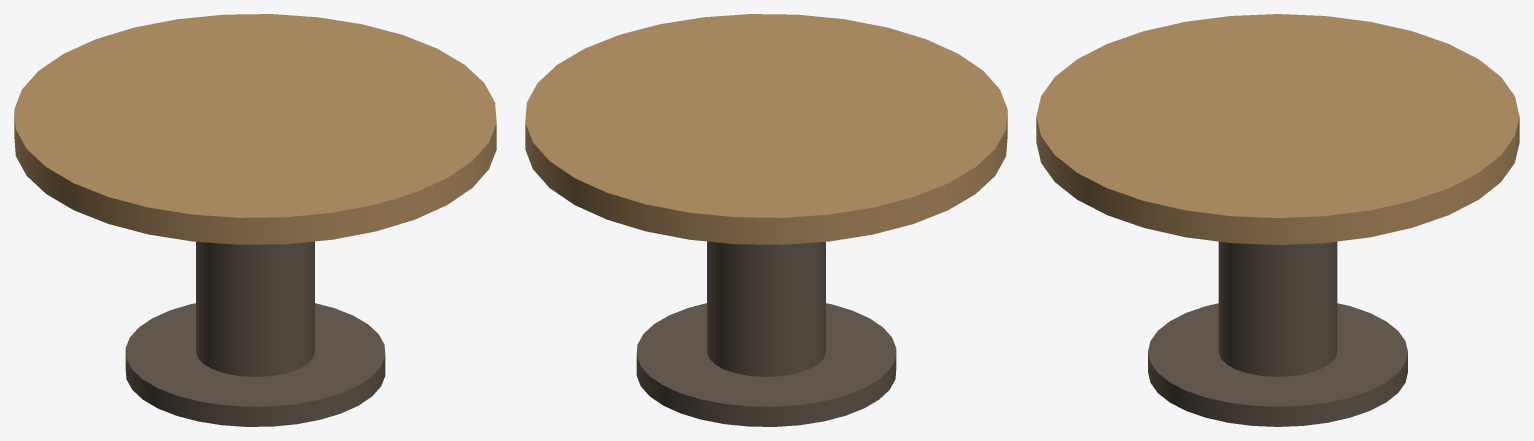
The model's file is dining-table.glb.
The picture shows the model from 3 angles, left to right: view 1: azimuth 30°, elevation 25°; view 2: azimuth 150°, elevation 25°; view 3: azimuth 270°, elevation 25°; orthographic projection.
Size of the model in its own units: 1.3 by 0.76 by 1.3.
